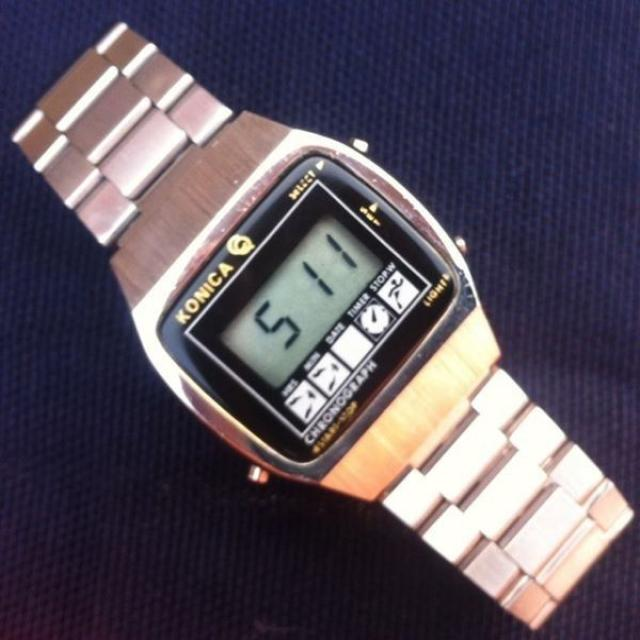watch: (153, 145, 465, 467)
